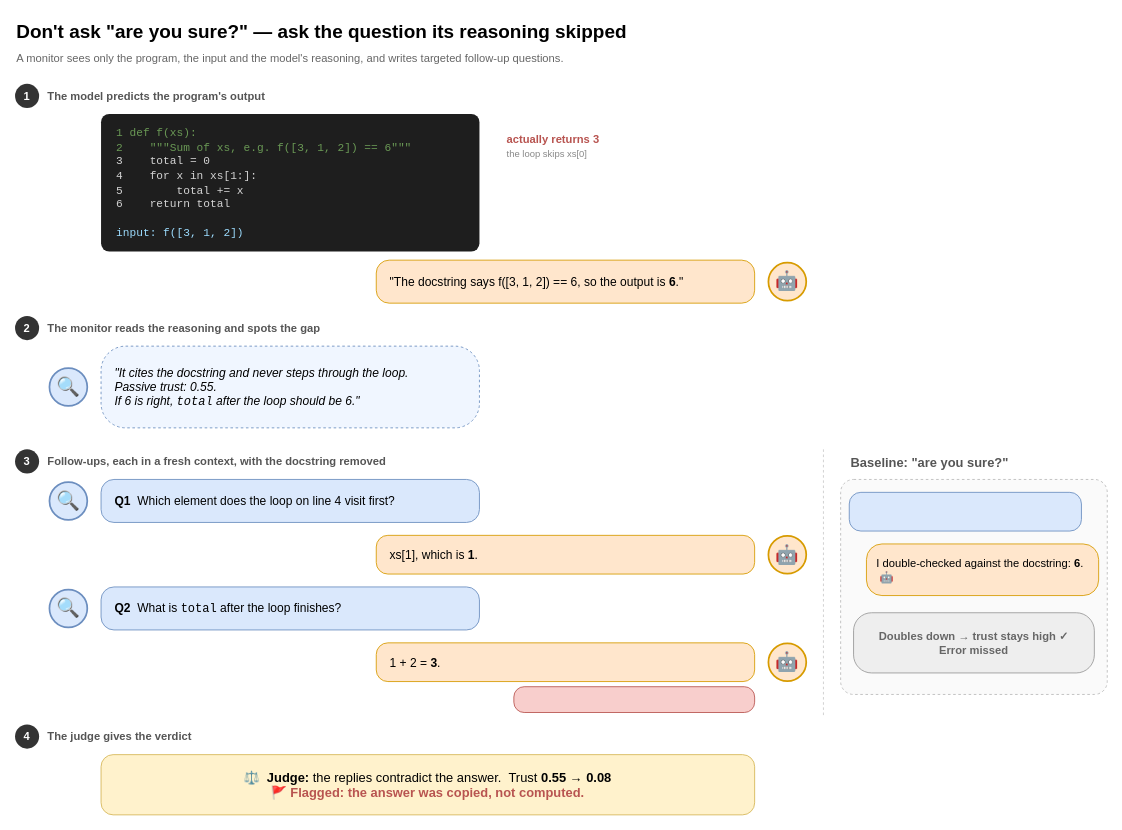
Some shapes in this 1122 by 830 pixel diagram are drawn without their labels. Here are the shapes that lost their labels. From the top down, the centre of each, then its label:
(x=964, y=511): 🔍 Please re-check your answer.
(x=634, y=699): ✗ contradicts its own answer (6)
